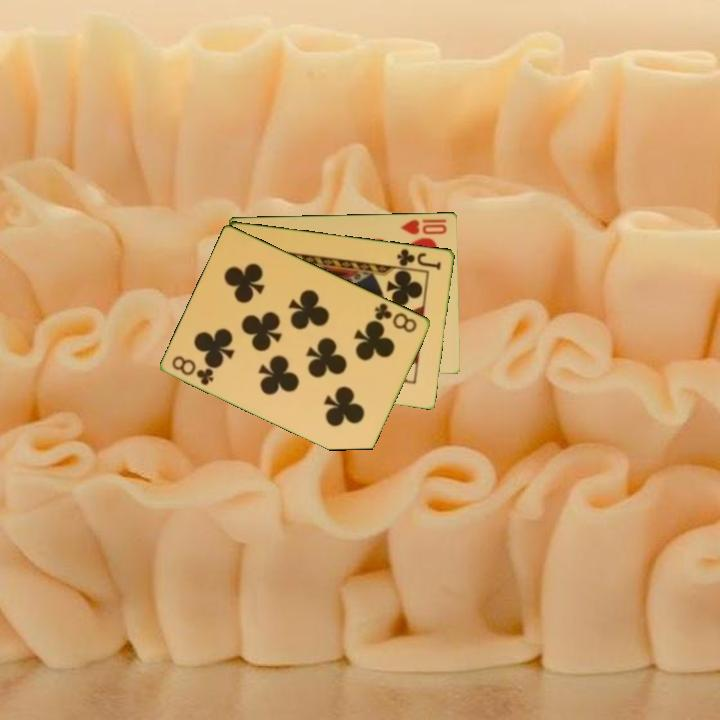10h: (398, 215, 450, 237)
8c: (371, 299, 420, 336), (169, 352, 217, 388)
Jc: (394, 245, 444, 272)
